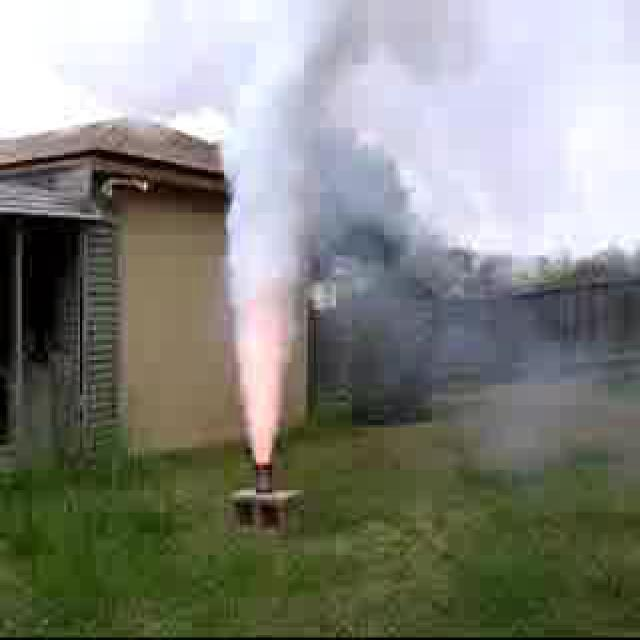Smoke: (208, 102, 298, 459)
